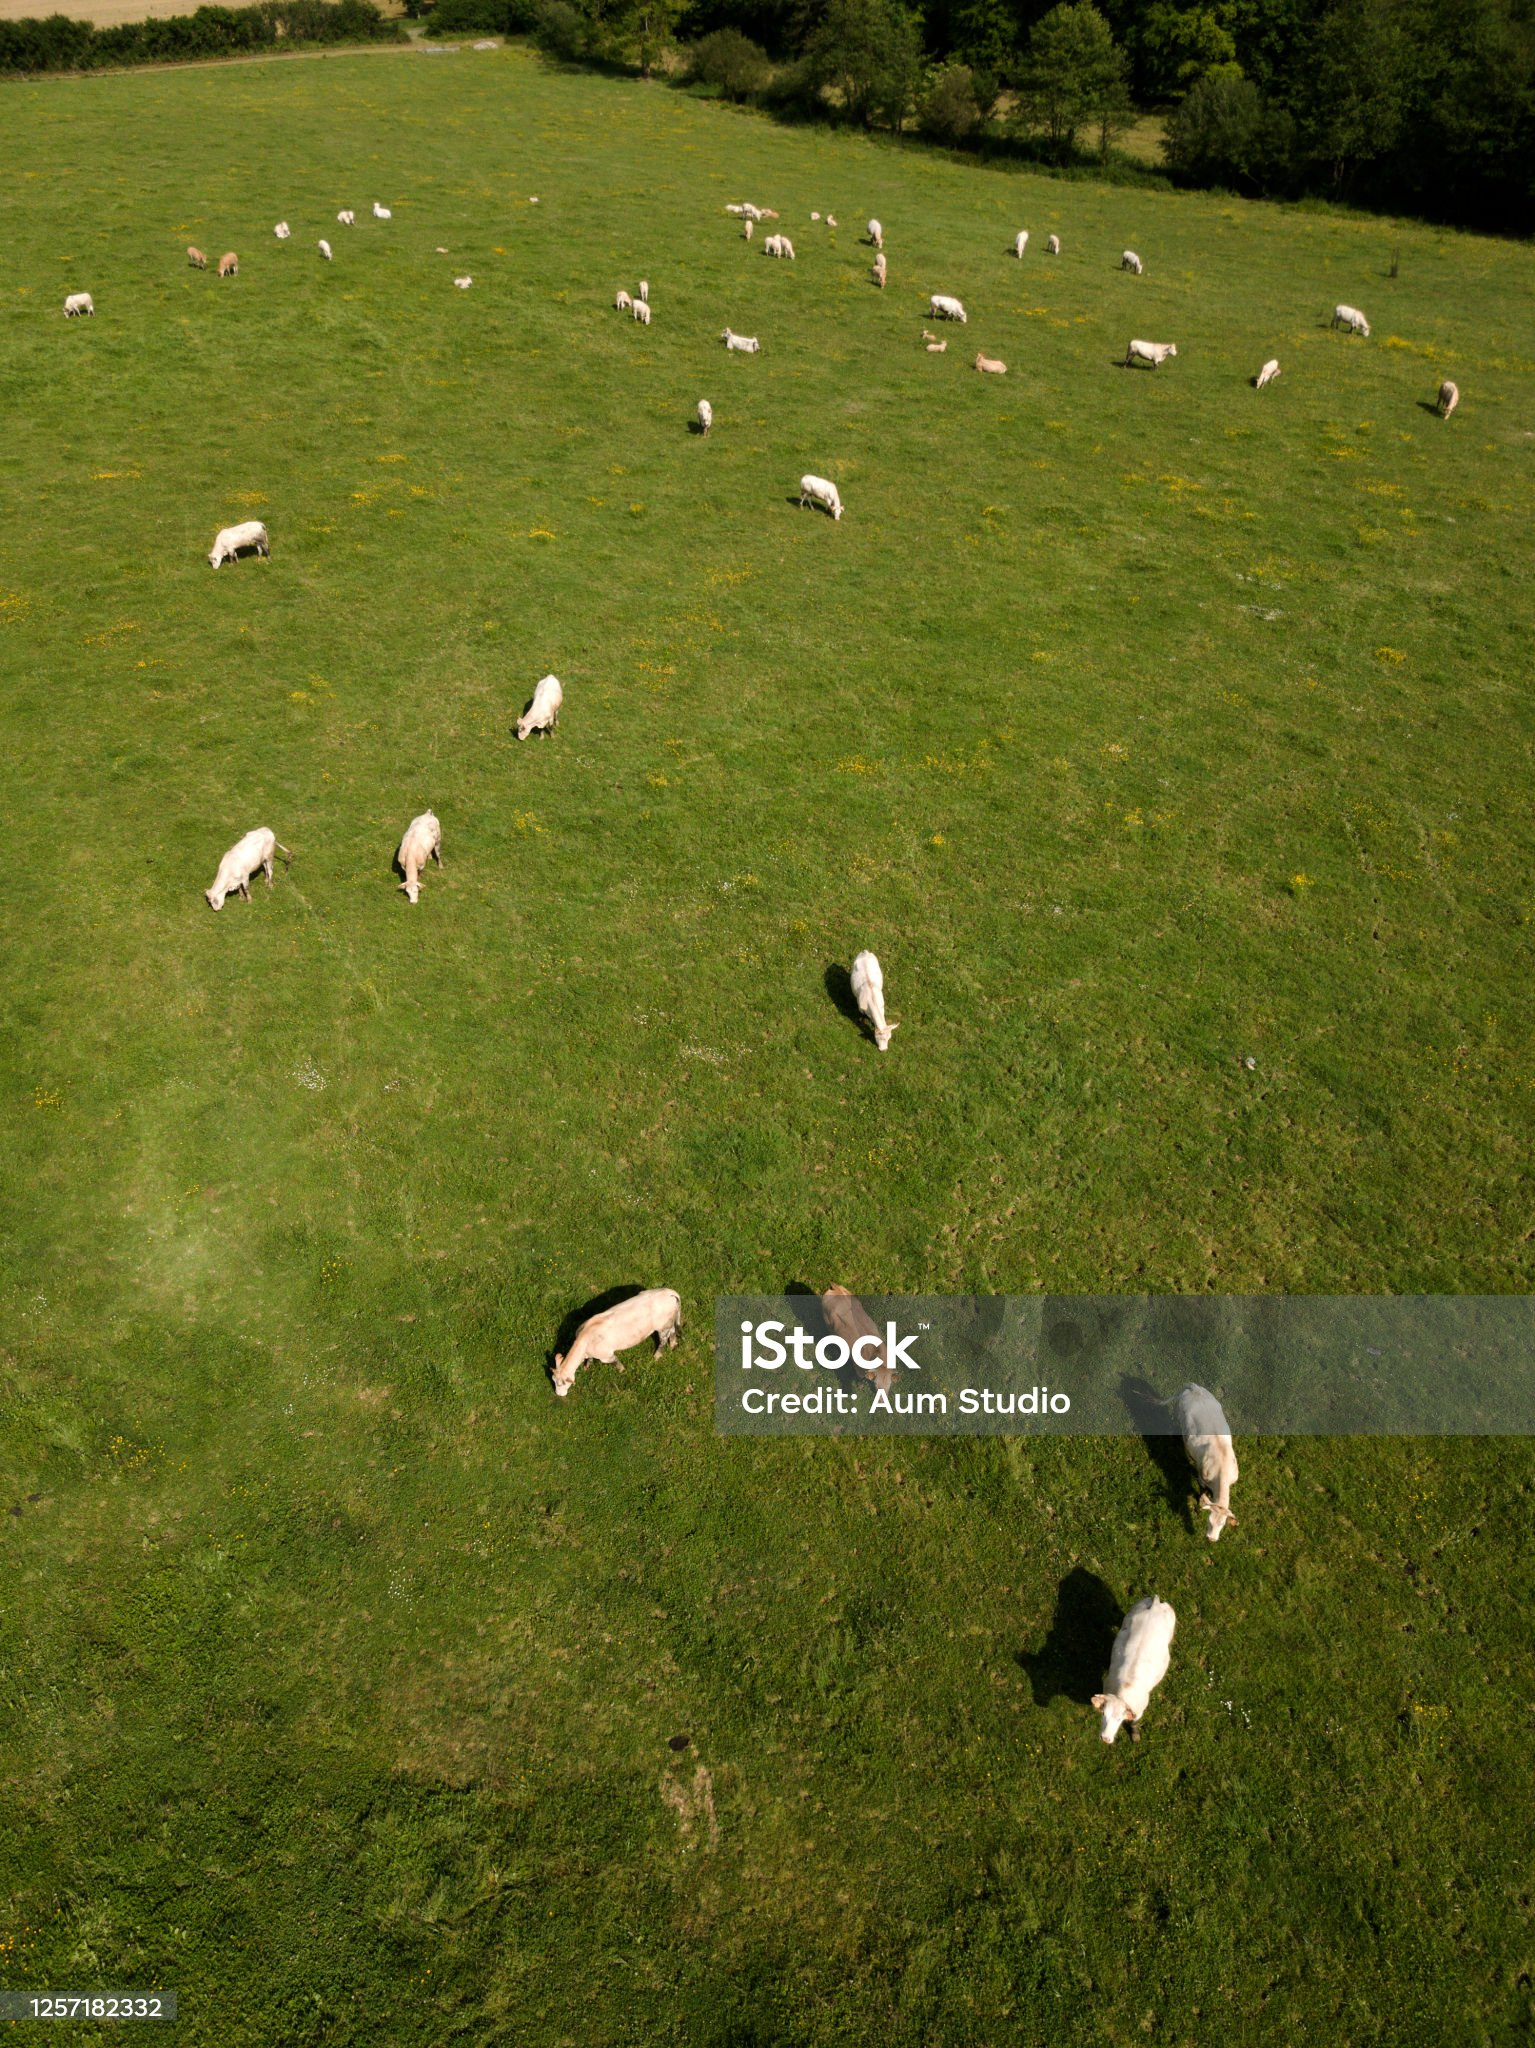cattle: (532, 1279, 685, 1401), (1150, 1371, 1258, 1538), (1092, 1580, 1187, 1759), (803, 1268, 917, 1405), (198, 821, 300, 914), (838, 943, 911, 1061), (395, 806, 447, 900), (790, 460, 863, 526), (192, 513, 277, 568), (513, 666, 566, 743), (1117, 335, 1185, 384), (1327, 292, 1374, 340), (921, 284, 972, 324), (685, 385, 726, 435), (52, 282, 95, 324), (1245, 348, 1283, 393), (974, 343, 1017, 379), (864, 253, 900, 293), (173, 237, 210, 273), (721, 326, 763, 356), (856, 213, 893, 247), (261, 210, 297, 244), (1005, 226, 1034, 263), (1116, 245, 1145, 279), (306, 232, 339, 261), (214, 247, 242, 281), (758, 232, 784, 261), (332, 205, 358, 232), (366, 200, 395, 223), (627, 277, 656, 300), (627, 302, 655, 324), (606, 285, 630, 310), (1043, 229, 1066, 255), (779, 232, 797, 264), (734, 218, 756, 242)
